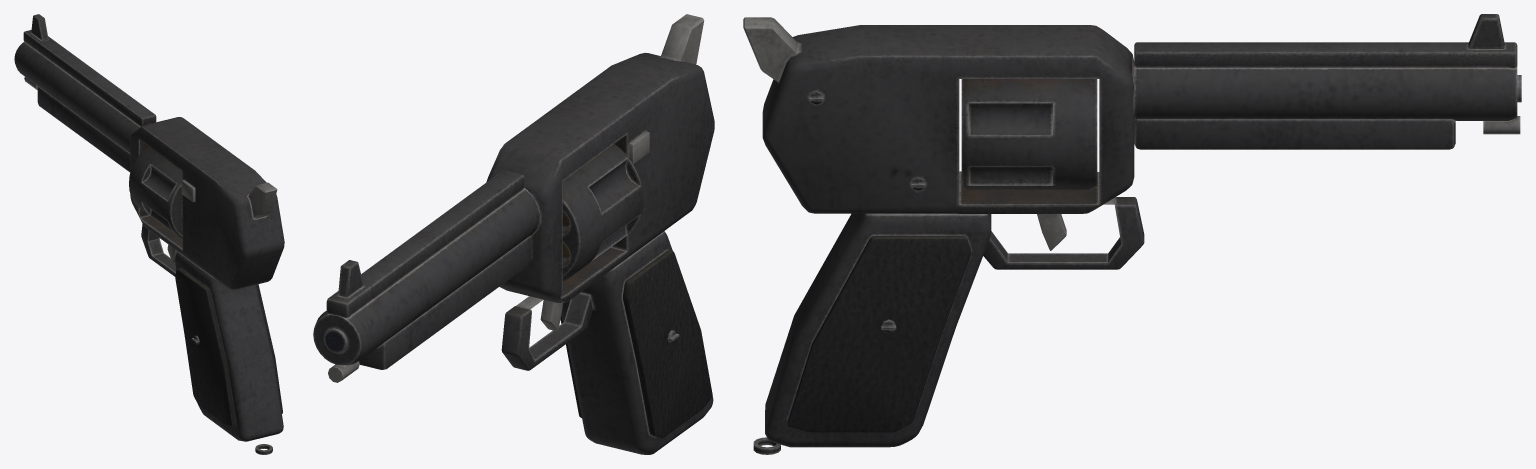
File: defender_heavy_round_pistol.glb
3 renders of one model, left to right at view 1: azimuth 30°, elevation 25°; view 2: azimuth 150°, elevation 25°; view 3: azimuth 270°, elevation 25°, orthographic. The views are drawn at different scales.
Visible parts, largest first — view 1: defender_heavy_round_pistol; view 2: defender_heavy_round_pistol; view 3: defender_heavy_round_pistol.
Boxes of the visible parts, x1,y1,x2,y2 form: defender_heavy_round_pistol: (14, 14, 284, 454); defender_heavy_round_pistol: (313, 14, 714, 454); defender_heavy_round_pistol: (743, 14, 1521, 454).
Bounding box in the file's own units: 0.0601 × 0.2215 × 0.3609.
Materials: 1 (1 with a texture image).
